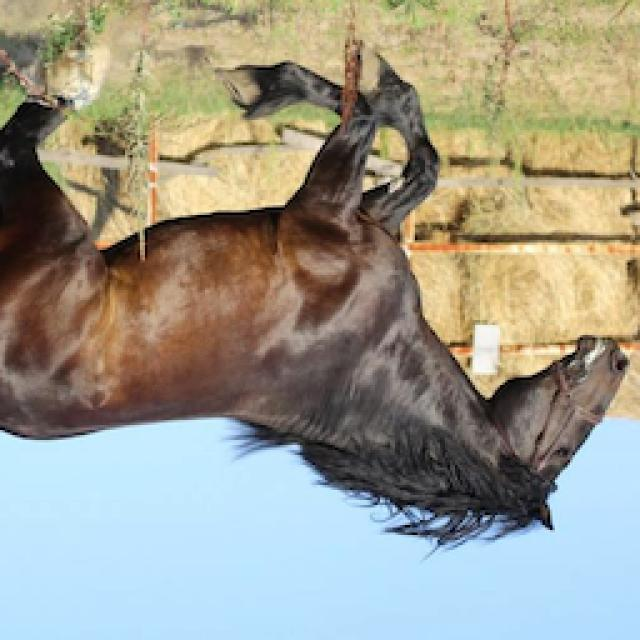Horse: (0, 12, 635, 558)
